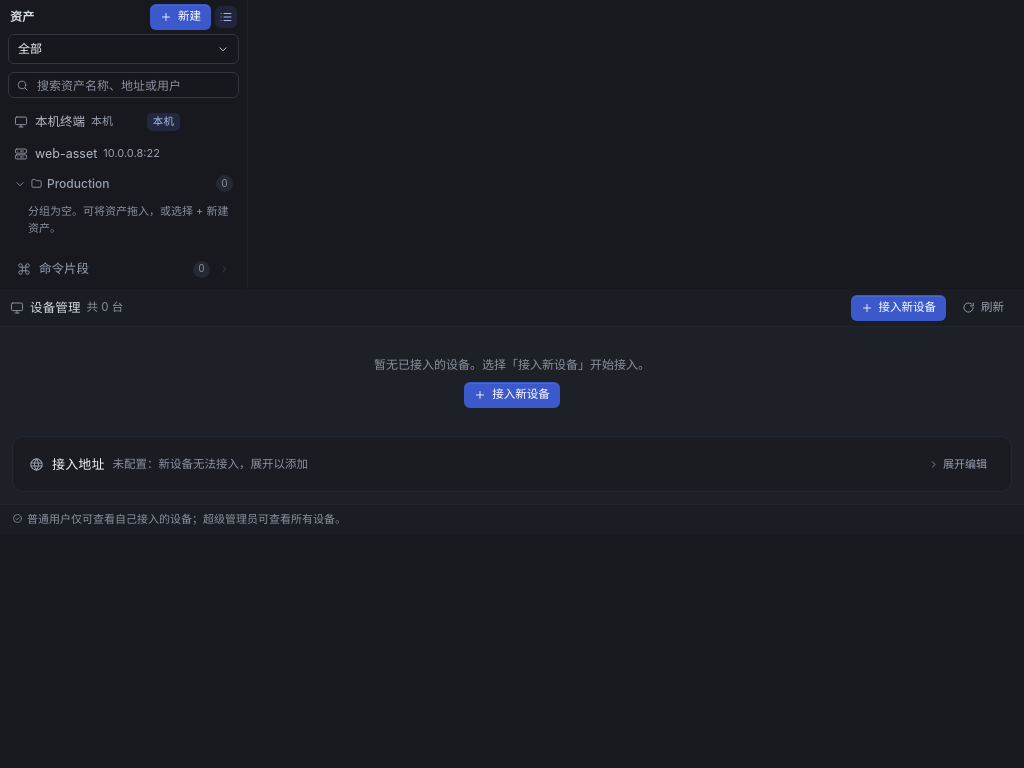
Test: DevicesView and AssetTree cache synchronization › shows a newly online device in both views immediately after a manual refresh
Click the button "刷新" at point(983, 308), box [952,295,1014,321]
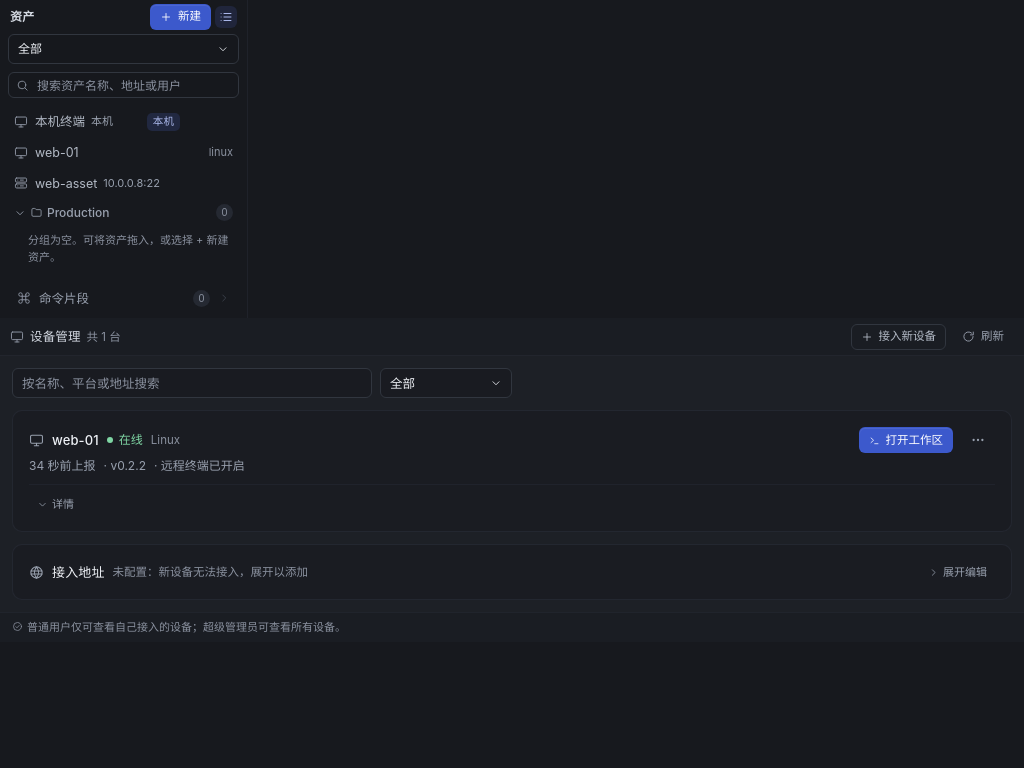
Result: the element with class "nx-pane" shows "web-01" at [52,432,99,448]
